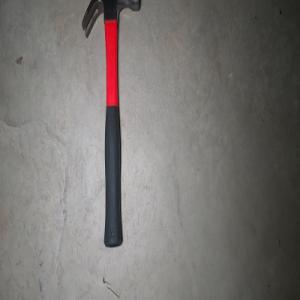Hammer: (81, 0, 141, 248)
